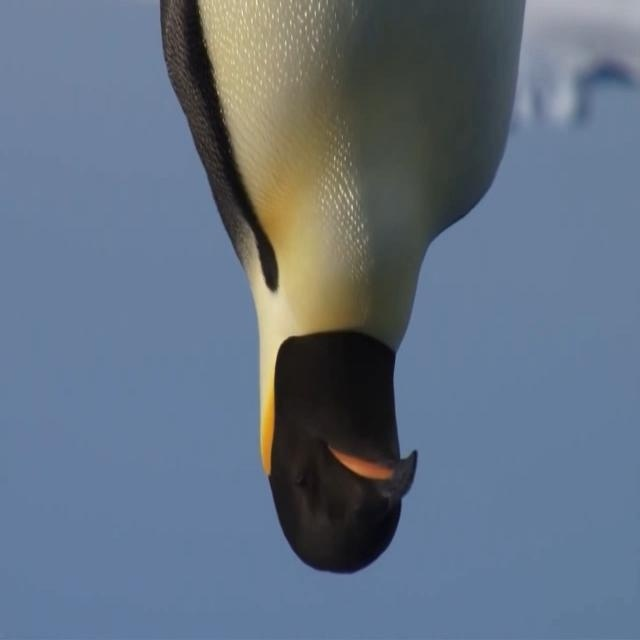penguin: (158, 1, 535, 575)
